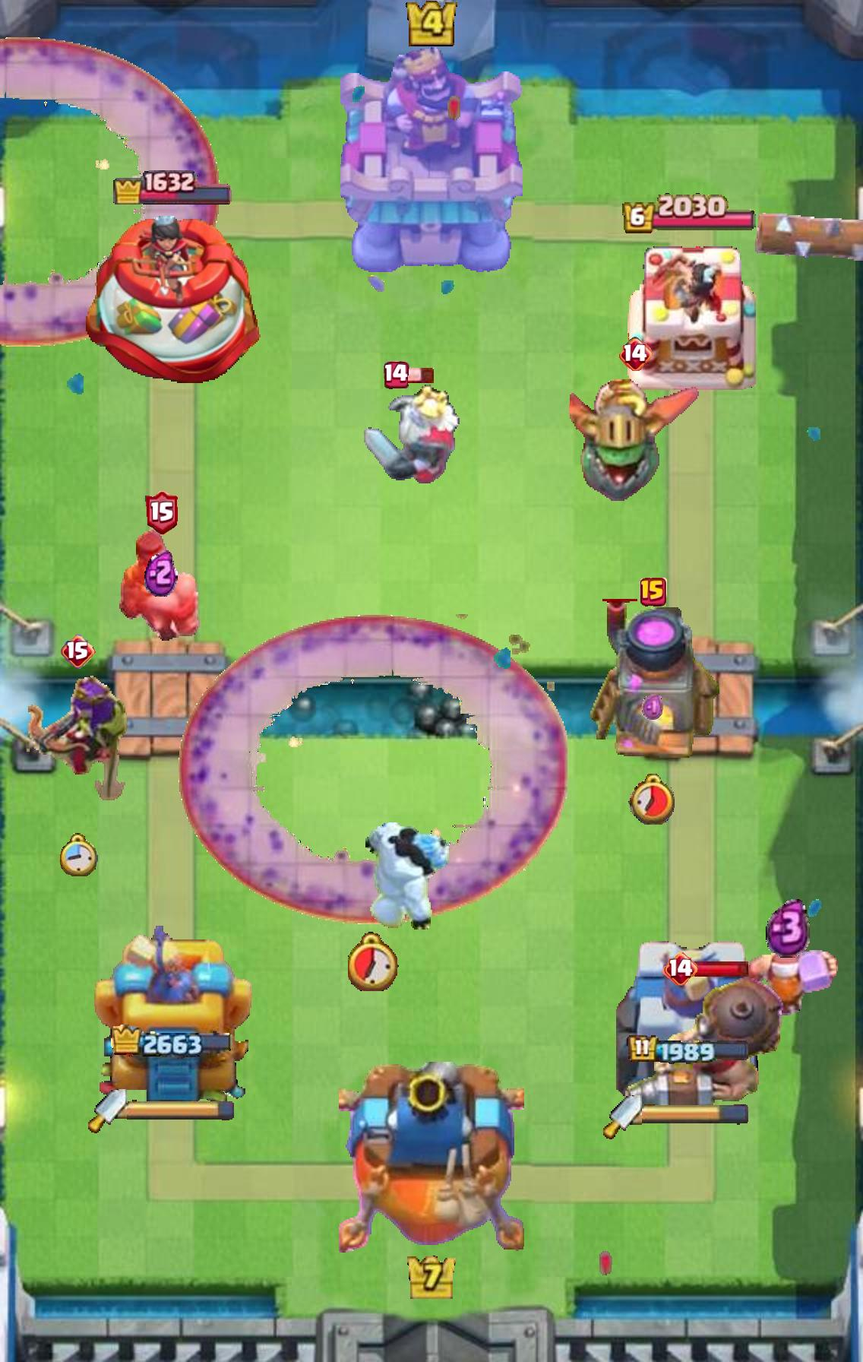bar: (694, 961, 751, 977), (406, 367, 435, 384)
bar-level: (145, 491, 177, 535), (61, 634, 96, 669), (663, 951, 699, 985), (619, 337, 653, 371), (640, 578, 667, 607), (384, 361, 409, 390)
